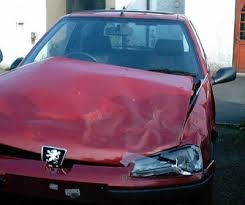Broken-glass: (131, 145, 202, 176)
Dent: (27, 95, 162, 144)
Smashed: (1, 58, 212, 190)
